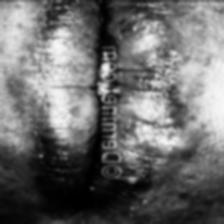Toxin: (122, 98, 202, 158), (116, 10, 169, 56)
